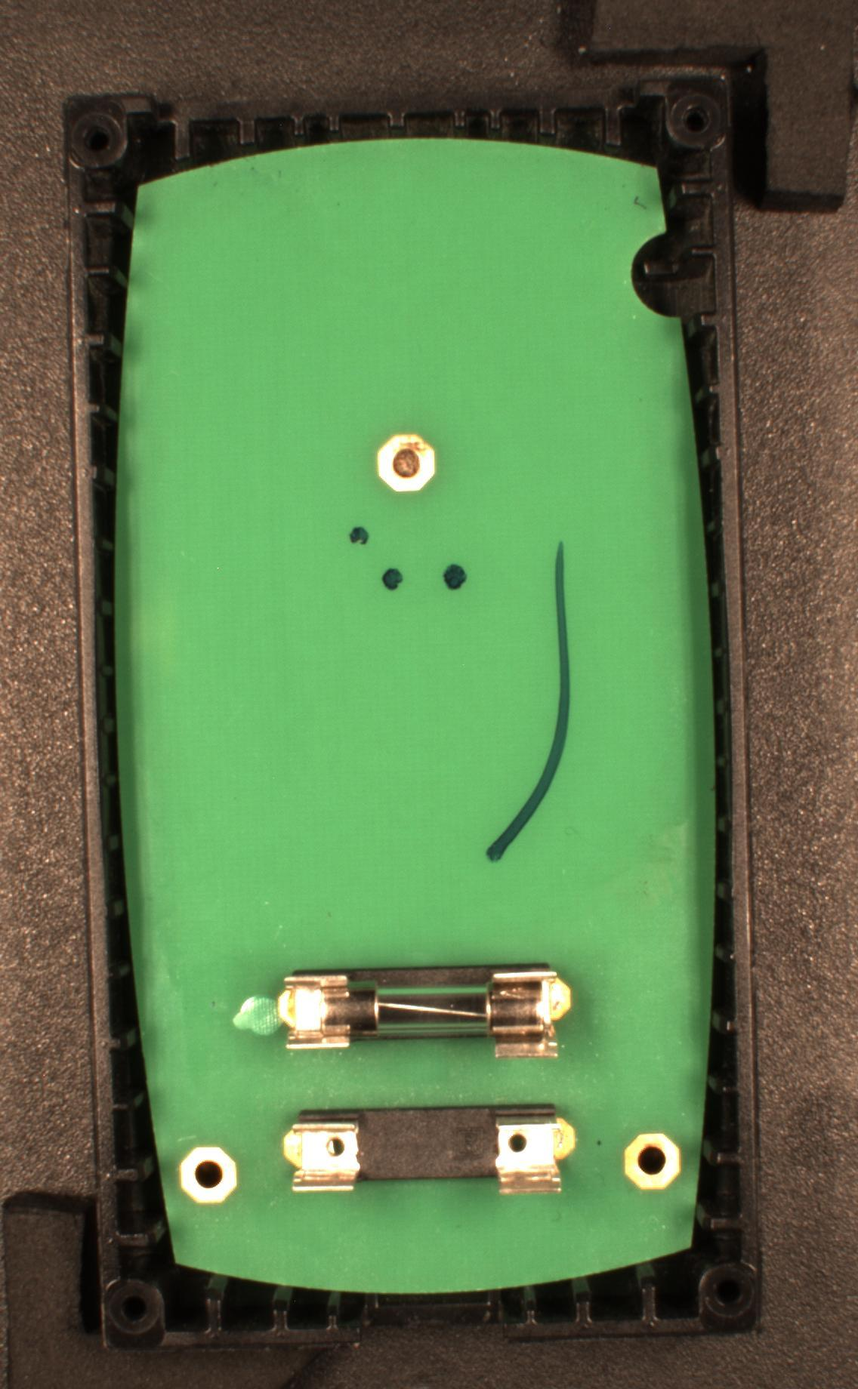Linijsko Ostecene: (482, 538, 572, 867)
Nepostojanje osiguraca: (280, 1106, 579, 1196)
Tockasto Ostecenje: (443, 562, 468, 592), (380, 566, 404, 591), (348, 524, 371, 547)
